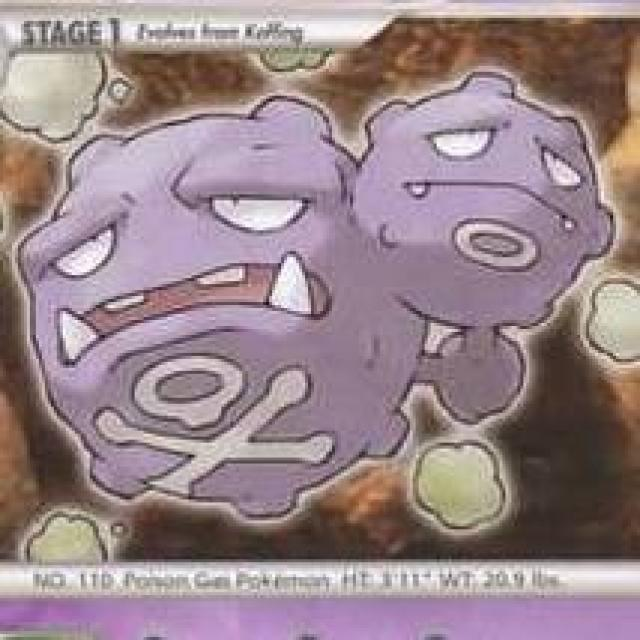Weezing: (6, 88, 596, 495)
